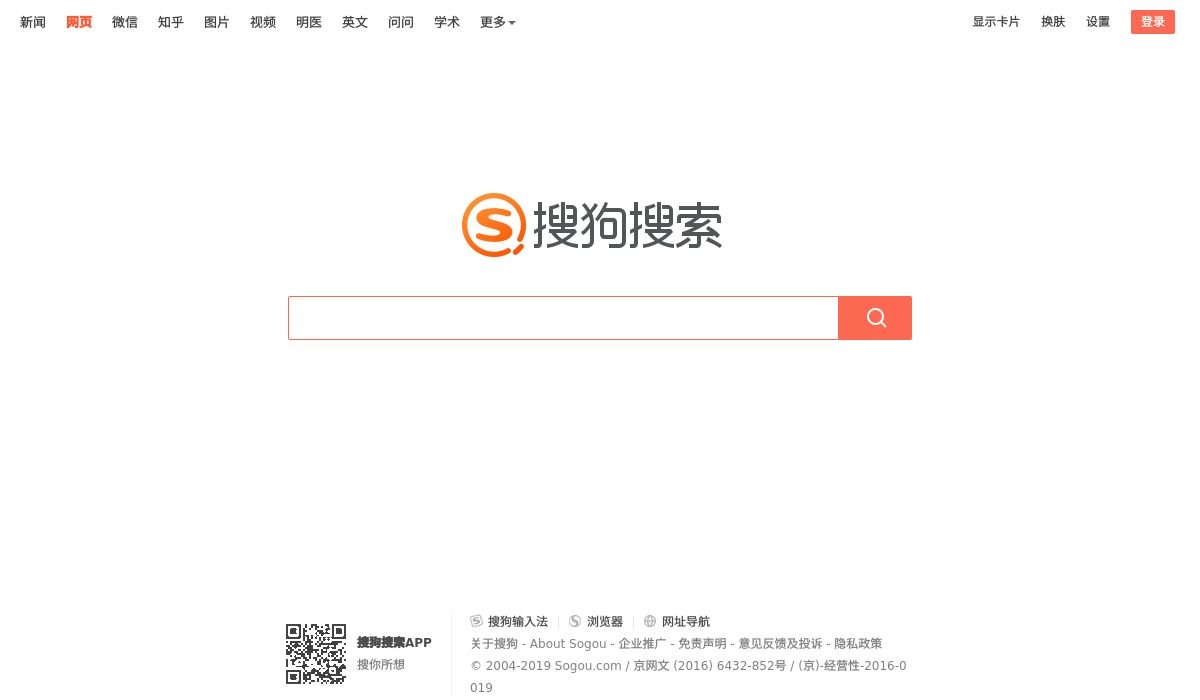menu: (1, 1, 1200, 39)
menu-button: (1129, 8, 1177, 35), (971, 9, 1025, 31), (15, 12, 51, 34), (60, 12, 96, 34), (108, 12, 144, 34), (154, 12, 190, 34), (199, 12, 235, 34), (246, 12, 282, 34), (291, 12, 327, 34), (337, 12, 373, 34), (383, 12, 419, 34), (430, 12, 466, 34), (479, 12, 515, 34), (1036, 10, 1072, 32), (1080, 10, 1116, 32)
